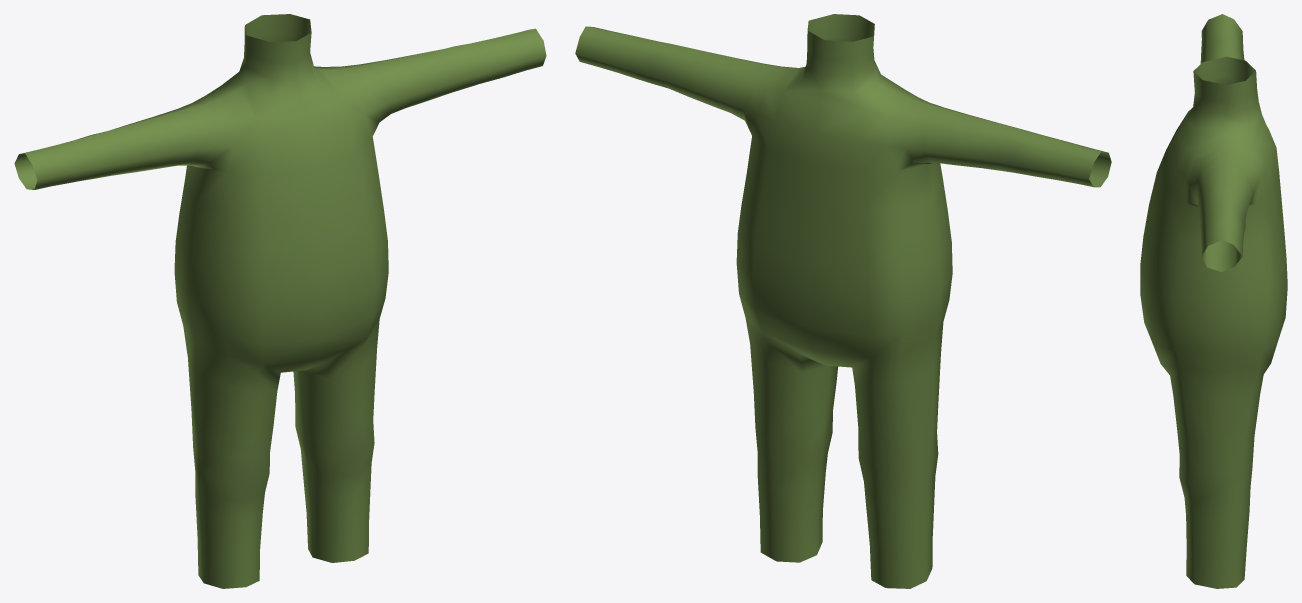
Rendered from Body_Green_4.fbx.
3 renders of one model, left to right at view 1: azimuth 30°, elevation 25°; view 2: azimuth 150°, elevation 25°; view 3: azimuth 270°, elevation 25°, orthographic. The views are drawn at different scales.
Parts seen in each view (by area): view 1: Body_Green_4; view 2: Body_Green_4; view 3: Body_Green_4.
Part boxes in pixels (x1,y1,x2,y2): Body_Green_4: (14, 14, 546, 588); Body_Green_4: (575, 14, 1111, 588); Body_Green_4: (1140, 14, 1287, 588).
Bounding box in the file's own units: 95.86 × 95.87 × 26.46.
